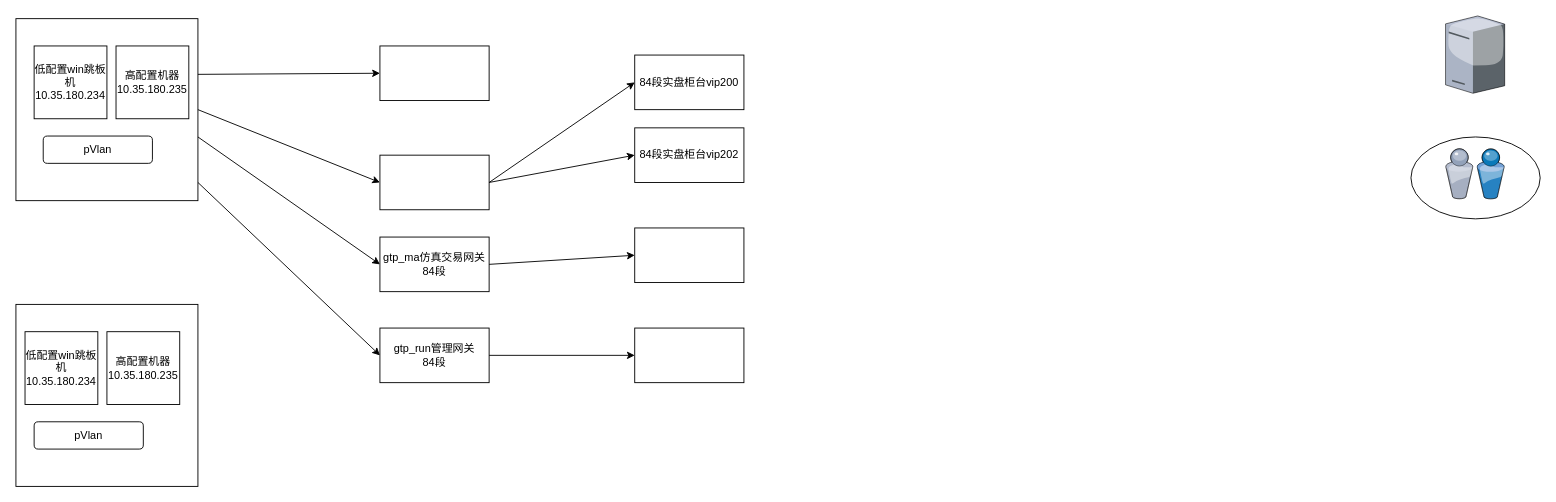
This 1556x502 diagram has some shape labels left out. Each missing label, with the centre of its shape:
"84段仿真柜台" goes at [689,255].
"gtp_ma实盘交易网关 84段" goes at [434,182].
"Nginx数据库服务" goes at [689,355].
"Users" goes at [1474,173].
"策略管理服务器 10.35.86.120/121 : 9205" goes at [434,73].
